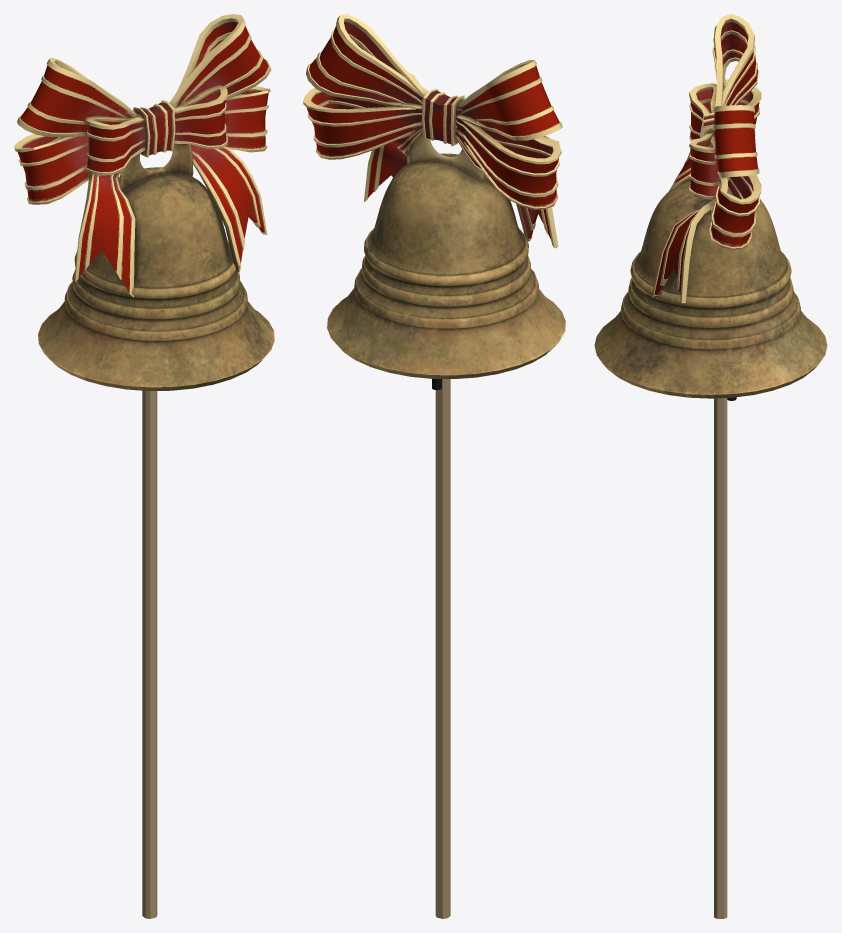
The model's file is Bell Rocket.fbx.
The picture shows the model from 3 angles, left to right: view 1: azimuth 30°, elevation 25°; view 2: azimuth 150°, elevation 25°; view 3: azimuth 270°, elevation 25°; orthographic projection. The views are drawn at different scales.
Parts seen in each view (by area): view 1: Whole_bell_ID_MAp_Plane.004, Cube; view 2: Whole_bell_ID_MAp_Plane.004, Cube; view 3: Whole_bell_ID_MAp_Plane.004, Cube.
Part boxes in pixels (<box>): Whole_bell_ID_MAp_Plane.004: <box>14,14,274,390</box>; Cube: <box>142,390,157,918</box>; Whole_bell_ID_MAp_Plane.004: <box>303,14,565,378</box>; Cube: <box>435,379,450,918</box>; Whole_bell_ID_MAp_Plane.004: <box>594,14,827,398</box>; Cube: <box>714,398,727,918</box>.
Bounding box in the file's own units: 43.33 × 144 × 35.51.
